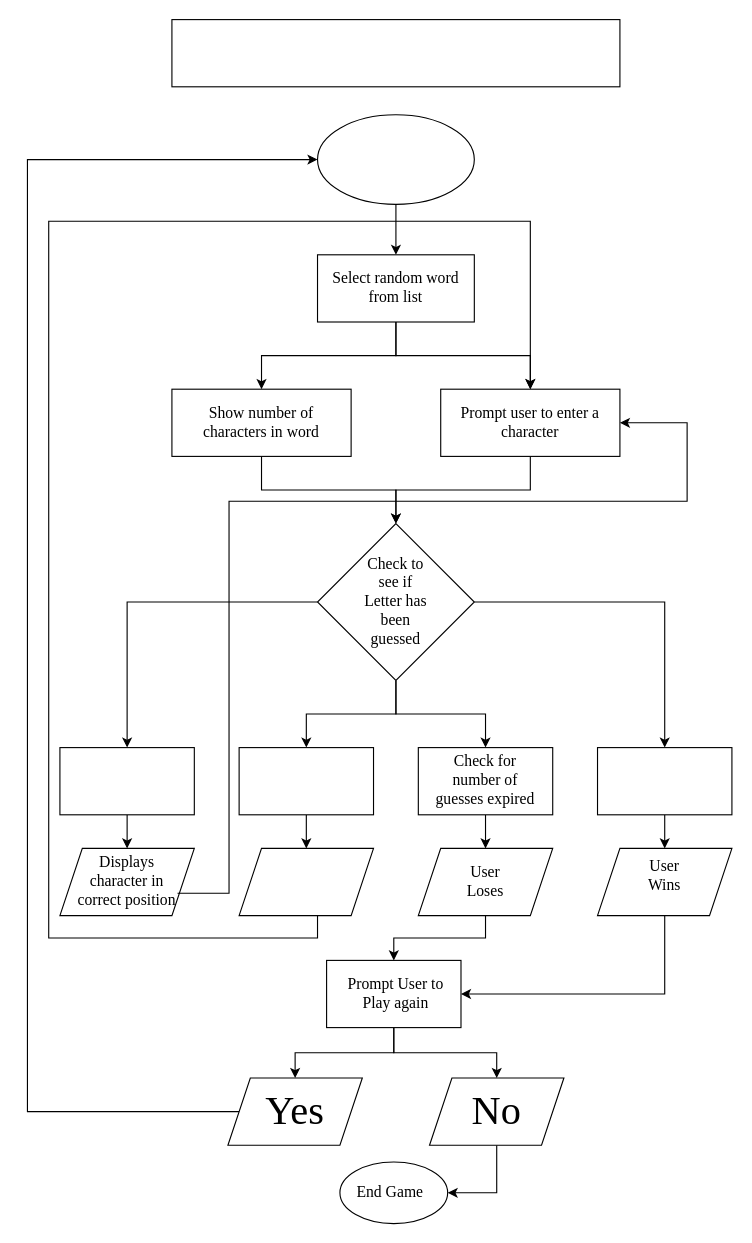
Image size: 752x1243. Some labels were removed from this diagram. The box of each missing label's shape, as (x1, y1, x2, y2) in pixels:
Check for if all characters guessed: (596, 746, 732, 815)
Check for Letter in word: (59, 746, 194, 815)
Check for Letter not in the word: (238, 746, 374, 815)
Hangman Game Members: Juntian Deng: (171, 18, 620, 87)
Number of guesses increment: (238, 847, 374, 916)
Start: (316, 114, 474, 204)
